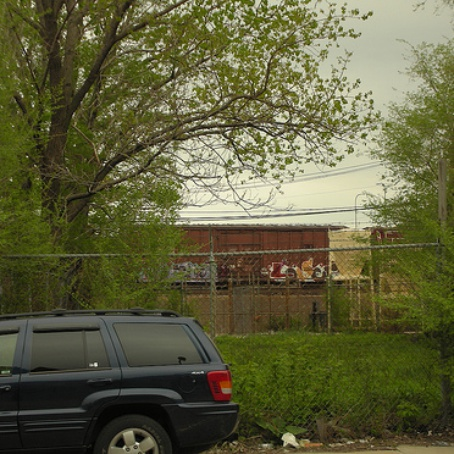car: (1, 312, 236, 454)
train: (164, 220, 369, 287)
tree: (1, 9, 370, 302), (388, 58, 454, 322)
